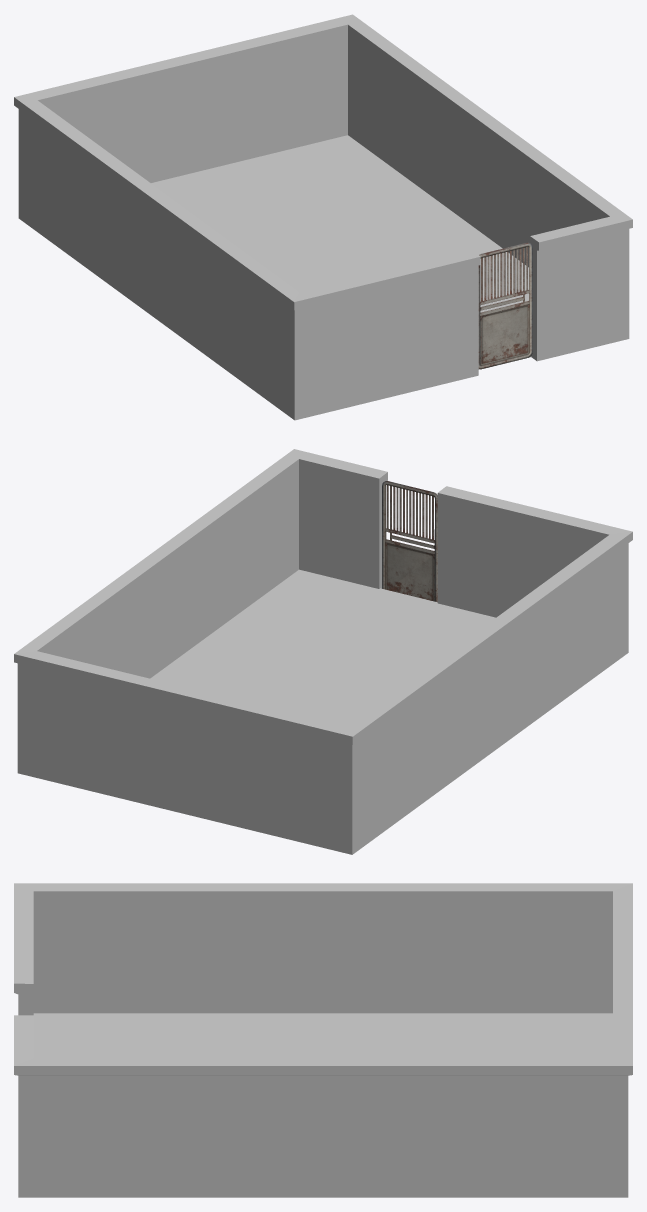
The model's file is SM_House_08HN.fbx.
The picture shows the model from 3 angles, top to bottom: view 1: azimuth 30°, elevation 25°; view 2: azimuth 150°, elevation 25°; view 3: azimuth 270°, elevation 25°; orthographic projection. The views are drawn at different scales.
Parts seen in each view (by area): view 1: polySurface8, polySurface9, SM_Door, SM_Door1; view 2: polySurface8, polySurface9, SM_Door1, SM_Door; view 3: polySurface8, polySurface9.
Part boxes in pixels (x1=…): polySurface8: x1=14, y1=14, x2=632, y2=420; polySurface9: x1=151, y1=135, x2=531, y2=369; SM_Door: x1=478, y1=243, x2=532, y2=369; SM_Door1: x1=479, y1=242, x2=529, y2=313; polySurface8: x1=14, y1=449, x2=632, y2=854; polySurface9: x1=150, y1=569, x2=495, y2=726; SM_Door1: x1=382, y1=481, x2=437, y2=602; SM_Door: x1=385, y1=481, x2=437, y2=551; polySurface8: x1=14, y1=883, x2=632, y2=1197; polySurface9: x1=33, y1=1013, x2=612, y2=1058.
Size of the model in its own units: 958 by 325 by 1371.
